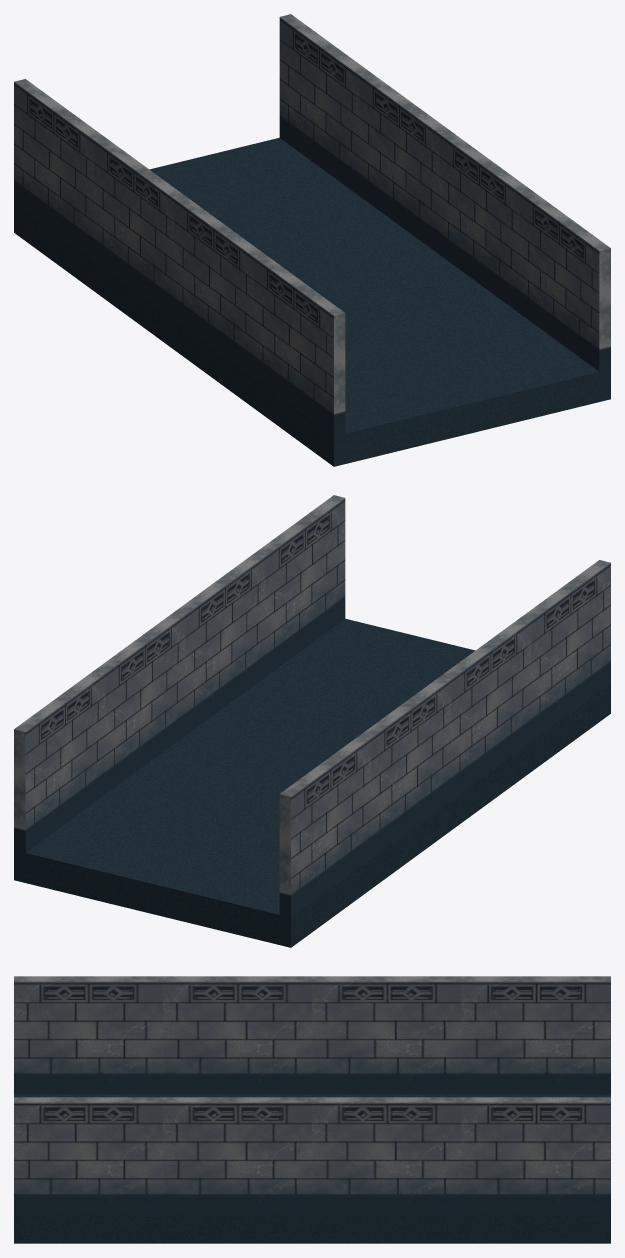
File: RoadTemplate1.fbx
3 views of the same model, one above another, from view 1: azimuth 30°, elevation 25°; view 2: azimuth 150°, elevation 25°; view 3: azimuth 270°, elevation 25° (orthographic). The views are drawn at different scales.
Visible parts, largest first — view 1: pCube7; view 2: pCube7; view 3: pCube7.
Part boxes in pixels (x1,y1,x2,y2): pCube7: (14, 14, 610, 466); pCube7: (14, 495, 610, 947); pCube7: (14, 976, 610, 1243).
Size of the model in its own units: 48 by 25 by 96.
Materials: 1 (1 with a texture image).
